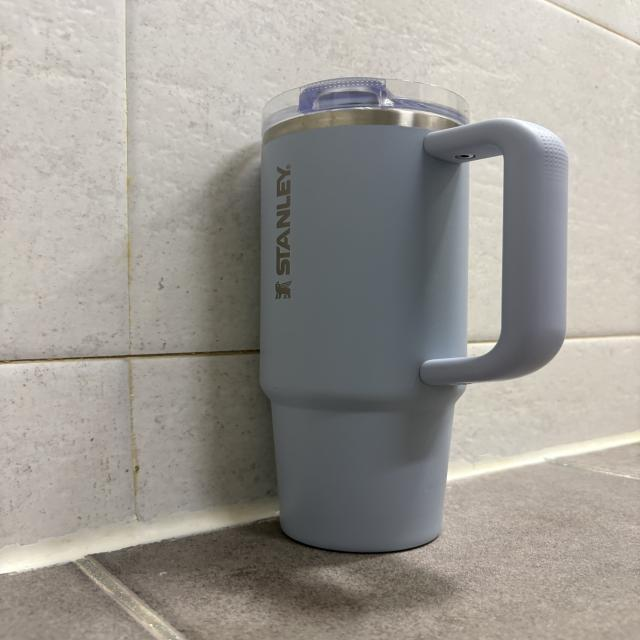waterbottle: (261, 76, 568, 552)
